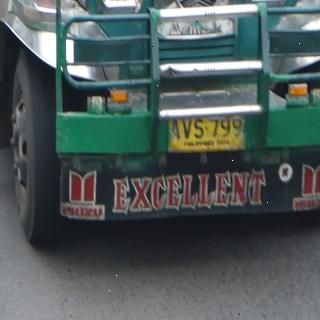license: (169, 118, 245, 154)
